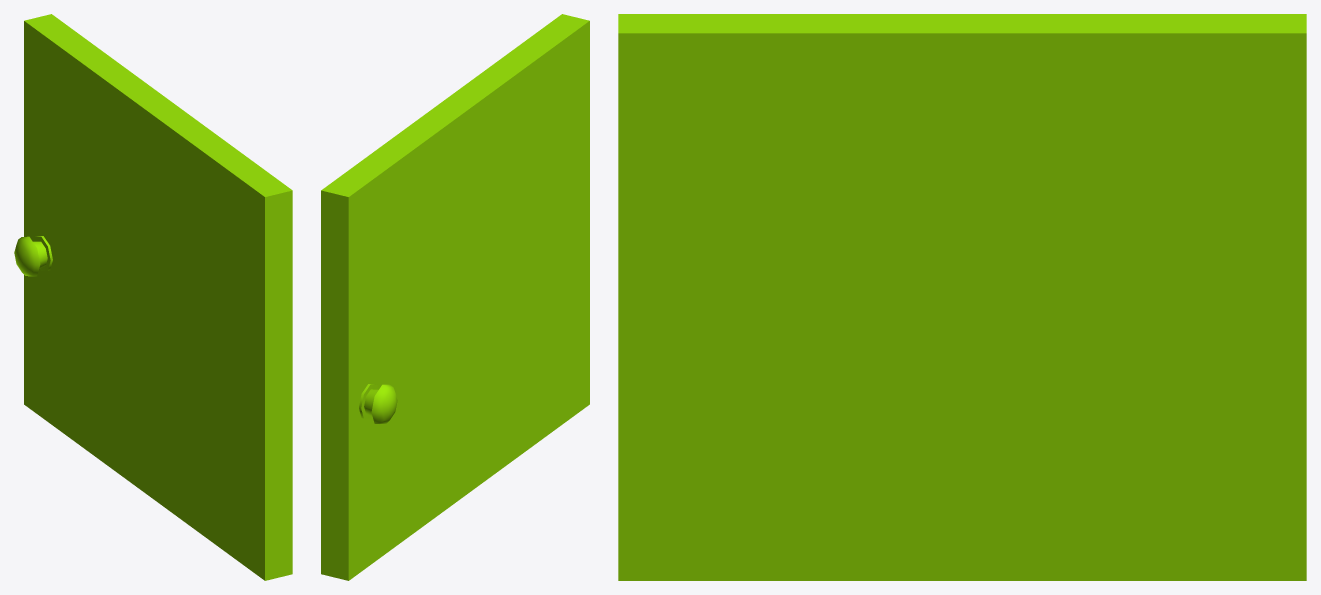
File: Bookcase_02_Right_Door.fbx
3 views of the same model, side by side, from view 1: azimuth 30°, elevation 25°; view 2: azimuth 150°, elevation 25°; view 3: azimuth 270°, elevation 25° (orthographic). The views are drawn at different scales.
Parts seen in each view (by area): view 1: Bookcase_02_Right_Door; view 2: Bookcase_02_Right_Door; view 3: Bookcase_02_Right_Door.
Boxes of the visible parts, <box> form: Bookcase_02_Right_Door: <box>14,14,292,580</box>; Bookcase_02_Right_Door: <box>321,14,589,580</box>; Bookcase_02_Right_Door: <box>618,14,1306,580</box>.
Bounding box in the file's own units: 8.55 × 59.9 × 68.2.
